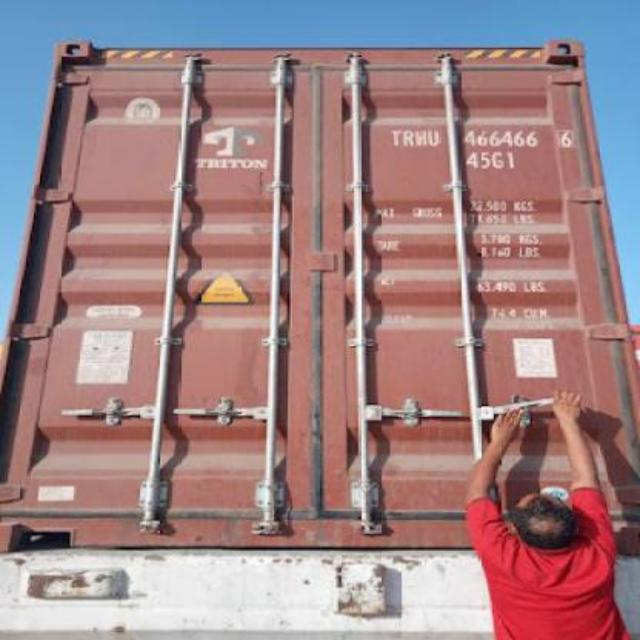4: (463, 130, 477, 148), (502, 128, 514, 148)
6: (558, 128, 576, 148), (476, 128, 489, 148), (525, 130, 539, 148), (490, 130, 502, 148), (514, 130, 526, 148)
H: (414, 129, 428, 149)
R: (403, 130, 415, 148)
T: (390, 128, 402, 148)
U: (428, 128, 442, 148)
